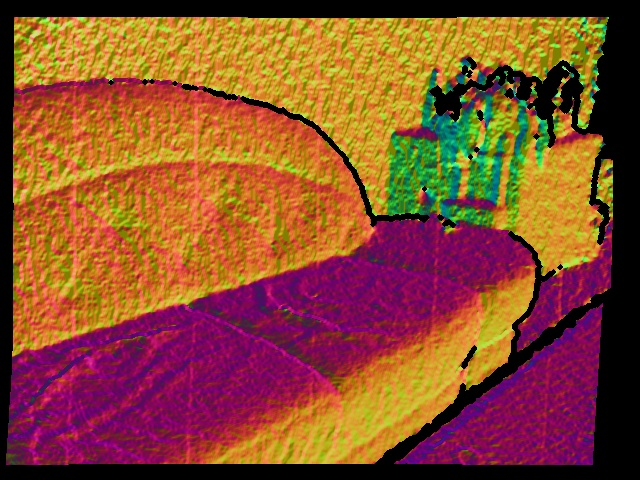station: (446, 150, 508, 234)
